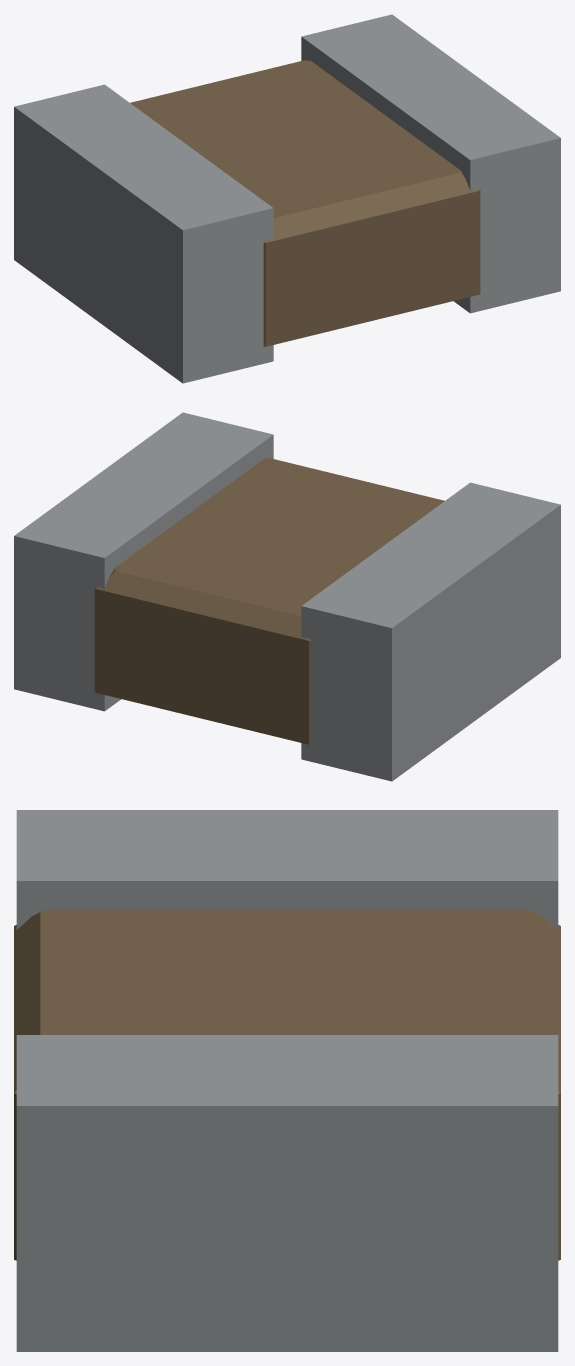
3 views of the same model, one above another, from view 1: azimuth 30°, elevation 25°; view 2: azimuth 150°, elevation 25°; view 3: azimuth 270°, elevation 25° (orthographic). The views are drawn at different scales.
Parts seen in each view (by area): view 1: C_S325__Solder, C_S325__Ceramic; view 2: C_S325__Solder, C_S325__Ceramic; view 3: C_S325__Solder, C_S325__Ceramic.
Boxes of the visible parts, left/top/right/bottom form: C_S325__Solder: left=14, top=14, right=560, bottom=383; C_S325__Ceramic: left=130, top=60, right=480, bottom=346; C_S325__Solder: left=14, top=412, right=560, bottom=781; C_S325__Ceramic: left=94, top=458, right=444, bottom=744; C_S325__Solder: left=16, top=810, right=558, bottom=1351; C_S325__Ceramic: left=14, top=909, right=560, bottom=1260.
Size of the model in its own units: 1.6 by 0.62 by 1.25.
